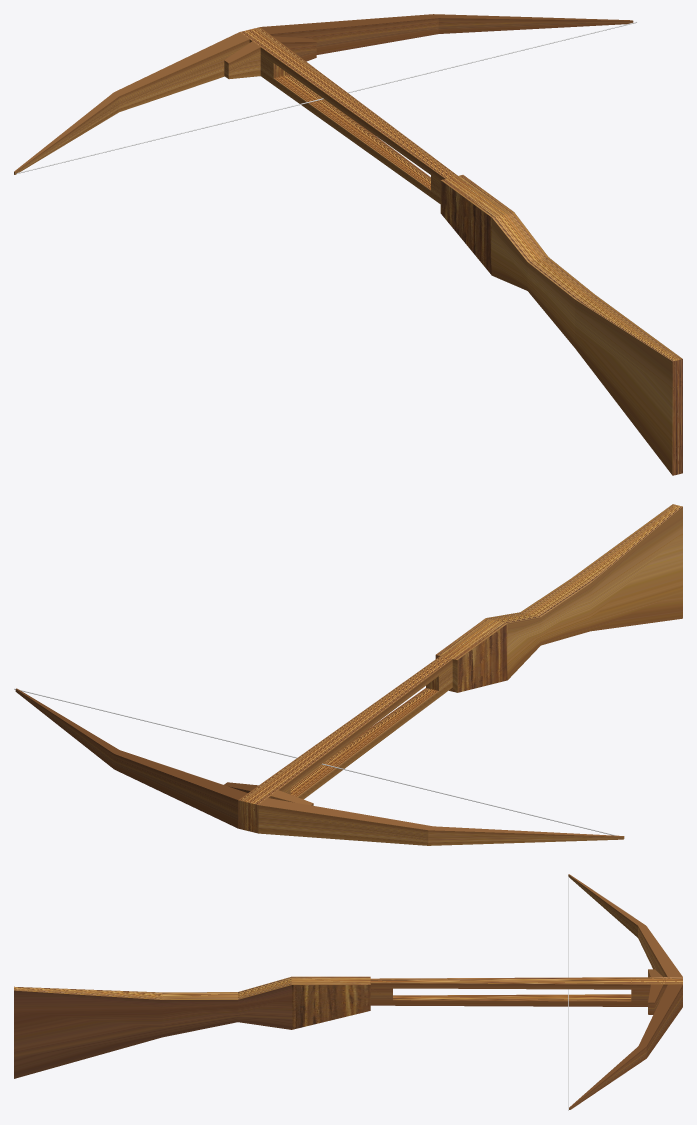
File: CrossBow.gltf
The picture shows the model from 3 angles, top to bottom: view 1: azimuth 30°, elevation 25°; view 2: azimuth 150°, elevation 25°; view 3: azimuth 270°, elevation 25°; orthographic projection. The views are drawn at different scales.
Parts seen in each view (by area): view 1: Cube, Cylinder; view 2: Cube, Cylinder; view 3: Cube.
Part boxes in pixels (x1,y1,x2,y2): Cube: [14, 14, 682, 475]; Cylinder: [16, 22, 636, 173]; Cube: [15, 504, 682, 845]; Cylinder: [14, 688, 616, 835]; Cube: [14, 874, 682, 1109].
Bounding box in the file's own units: 1.4 × 0.2737 × 1.69.
2 materials, 1 textured.
